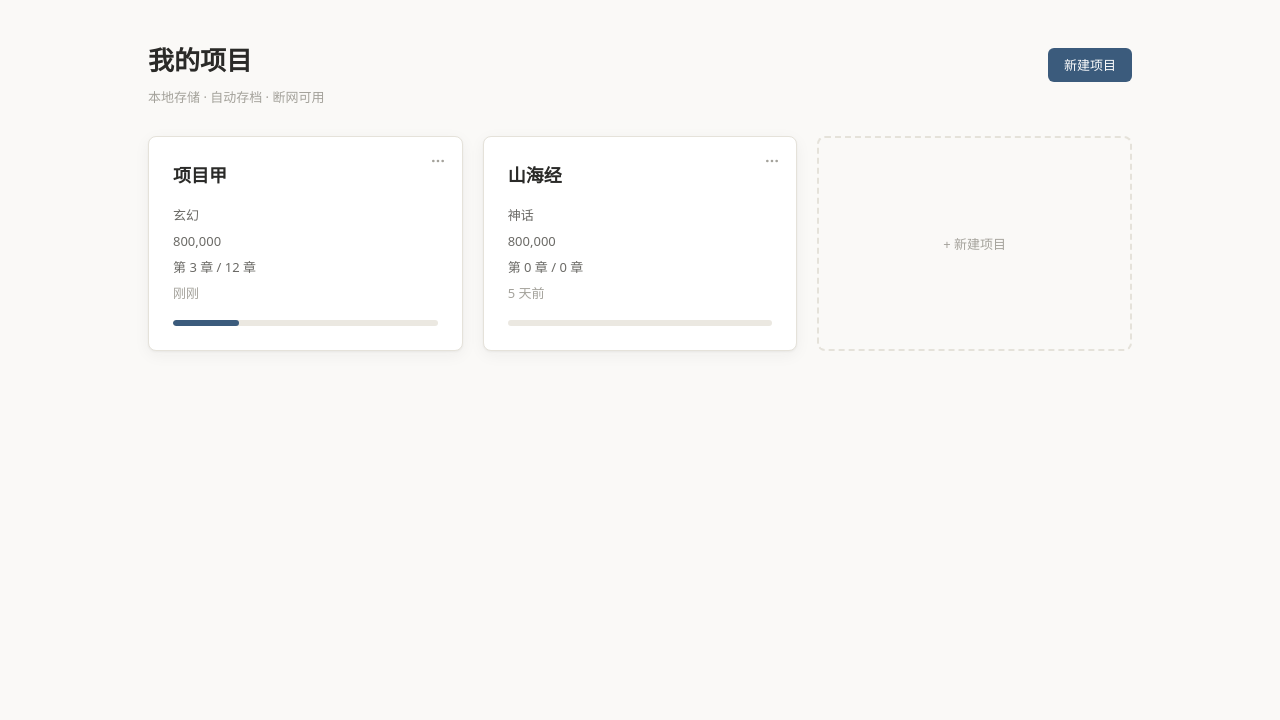
Scenario: 项目页 — 新建对话框 › 书名空校验：显示「书名不能为空」，不发 POST
Click the button with test id "new-project-btn": [1090, 65] box x1=1048 y1=48 x2=1132 y2=82
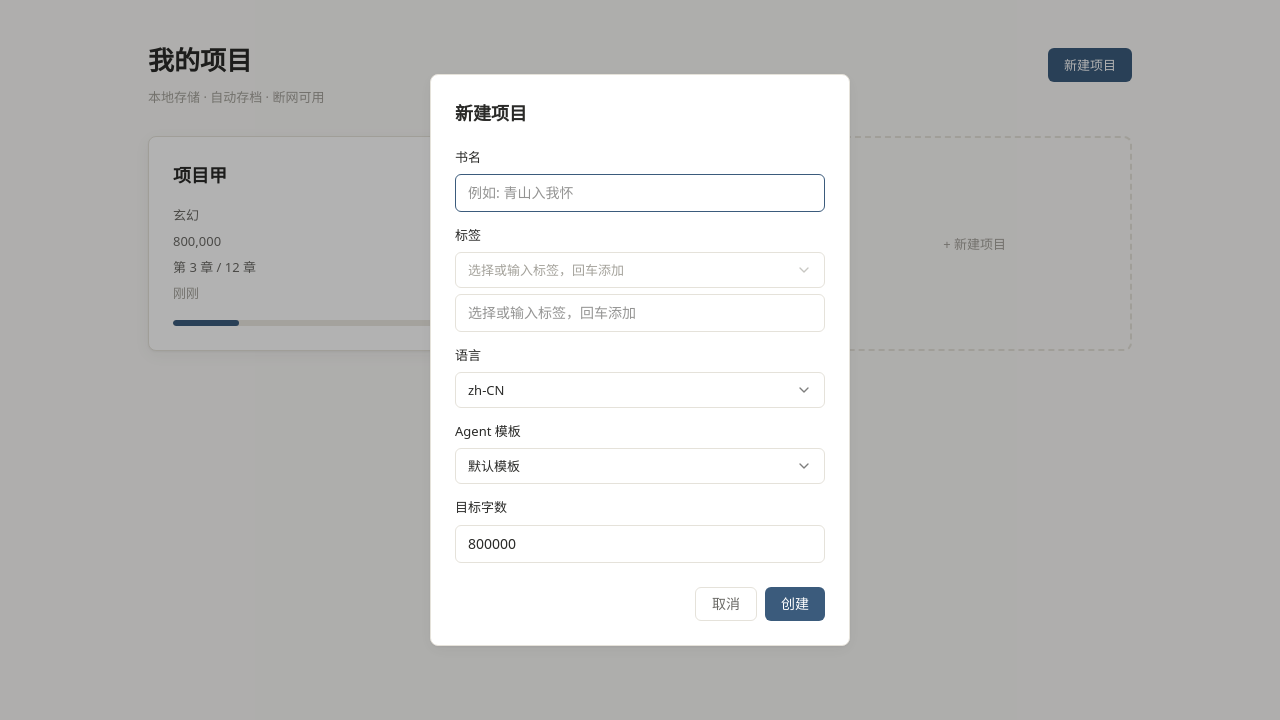
Click the button "创建": [795, 604] box x1=765 y1=586 x2=825 y2=620
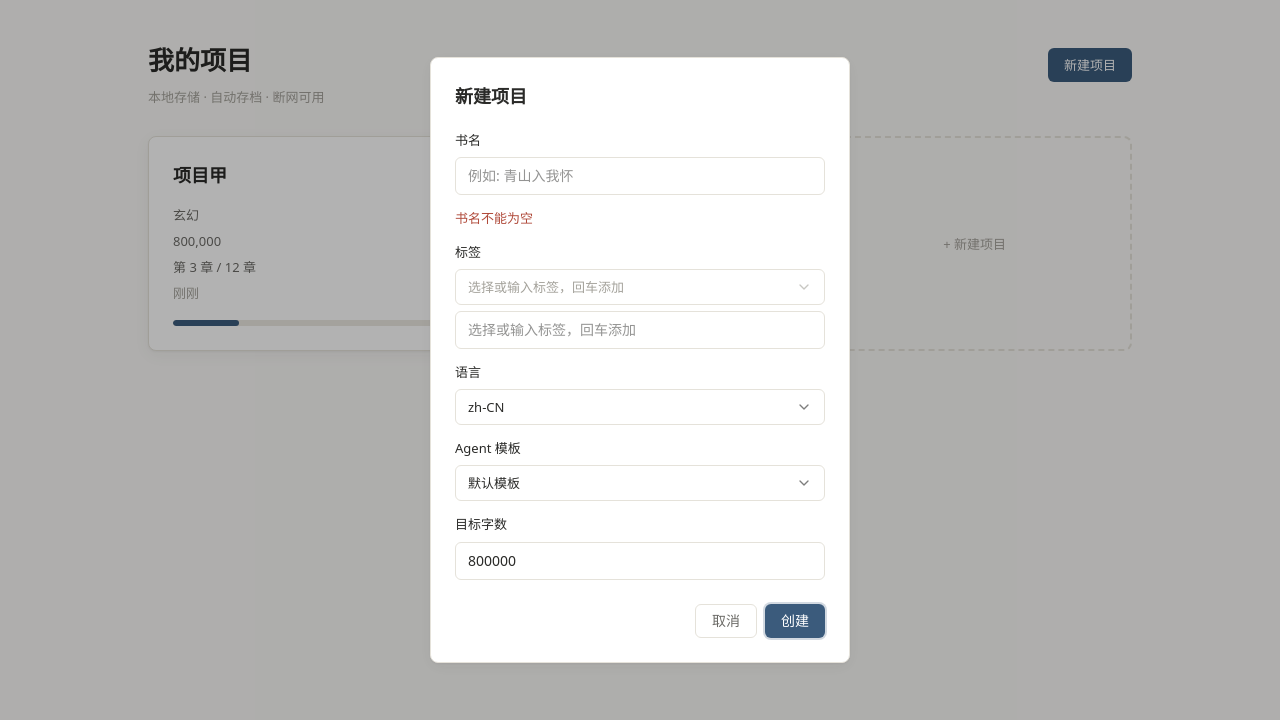
Check: the text "书名不能为空" is shown, box x1=455 y1=209 x2=533 y2=227
